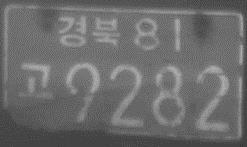1: (171, 17, 182, 51)
2: (194, 64, 232, 132), (107, 62, 144, 129)
8: (150, 64, 187, 129), (134, 16, 161, 52)
9: (65, 59, 101, 126)
경북_O: (56, 14, 122, 48)
고: (15, 61, 56, 102)
